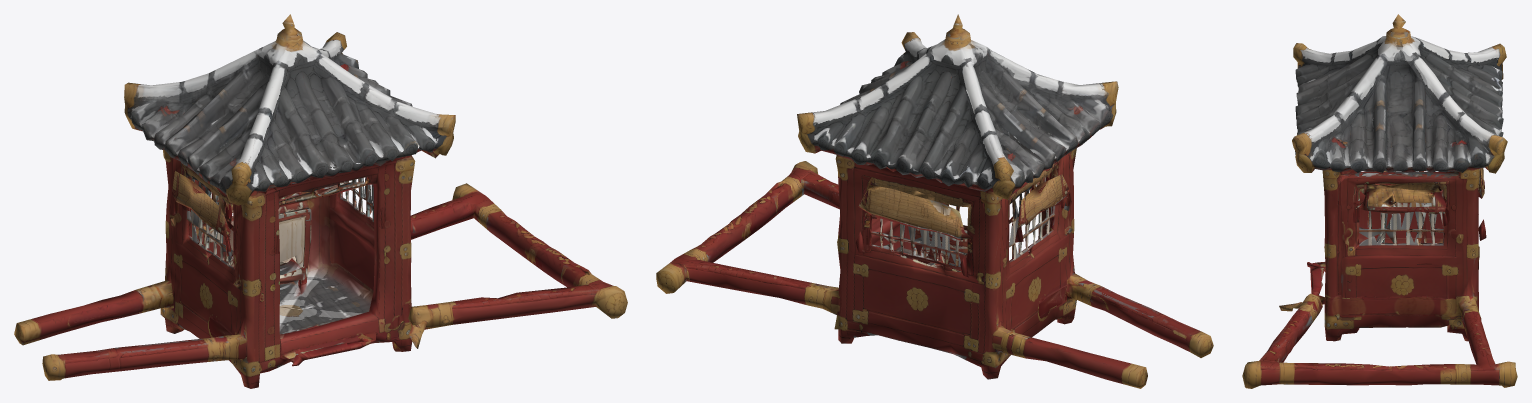
Rendered from PR_Gama.fbx.
3 renders of one model, left to right at view 1: azimuth 30°, elevation 25°; view 2: azimuth 150°, elevation 25°; view 3: azimuth 270°, elevation 25°, orthographic. The views are drawn at different scales.
Visible parts, largest first — view 1: texture_mapping; view 2: texture_mapping; view 3: texture_mapping.
Boxes of the visible parts, x1,y1,x2,y2 form: texture_mapping: (14,14,627,388); texture_mapping: (656,14,1213,388); texture_mapping: (1242,14,1517,388).
Size of the model in its own units: 0.9995 by 0.5263 by 0.6176.
Materials: 1 (1 with a texture image).
